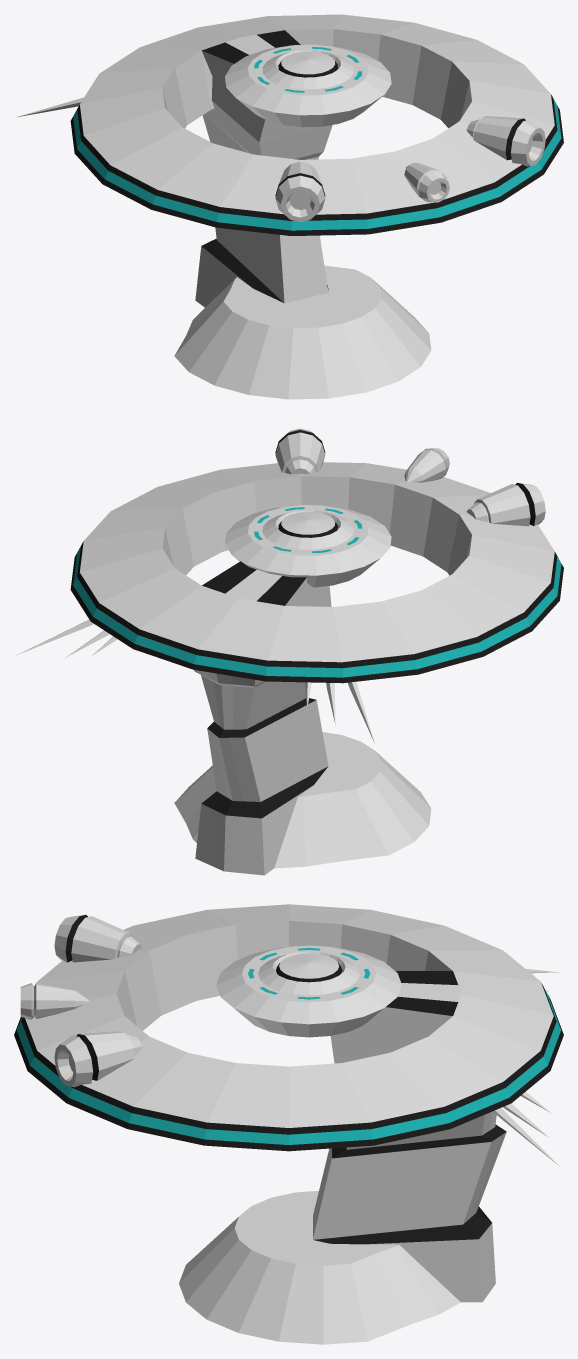
File: spacestation_01.fbx
3 views of the same model, one above another, from view 1: azimuth 30°, elevation 25°; view 2: azimuth 150°, elevation 25°; view 3: azimuth 270°, elevation 25° (orthographic). The views are drawn at different scales.
Visible parts, largest first — view 1: spacestation_01; view 2: spacestation_01; view 3: spacestation_01.
Boxes of the visible parts, x1=… form: spacestation_01: x1=16, y1=14, x2=563, y2=399; spacestation_01: x1=15, y1=428, x2=563, y2=875; spacestation_01: x1=14, y1=904, x2=563, y2=1344.
Size of the model in its own units: 127 by 81.54 by 127.
3 materials, 2 textured.
